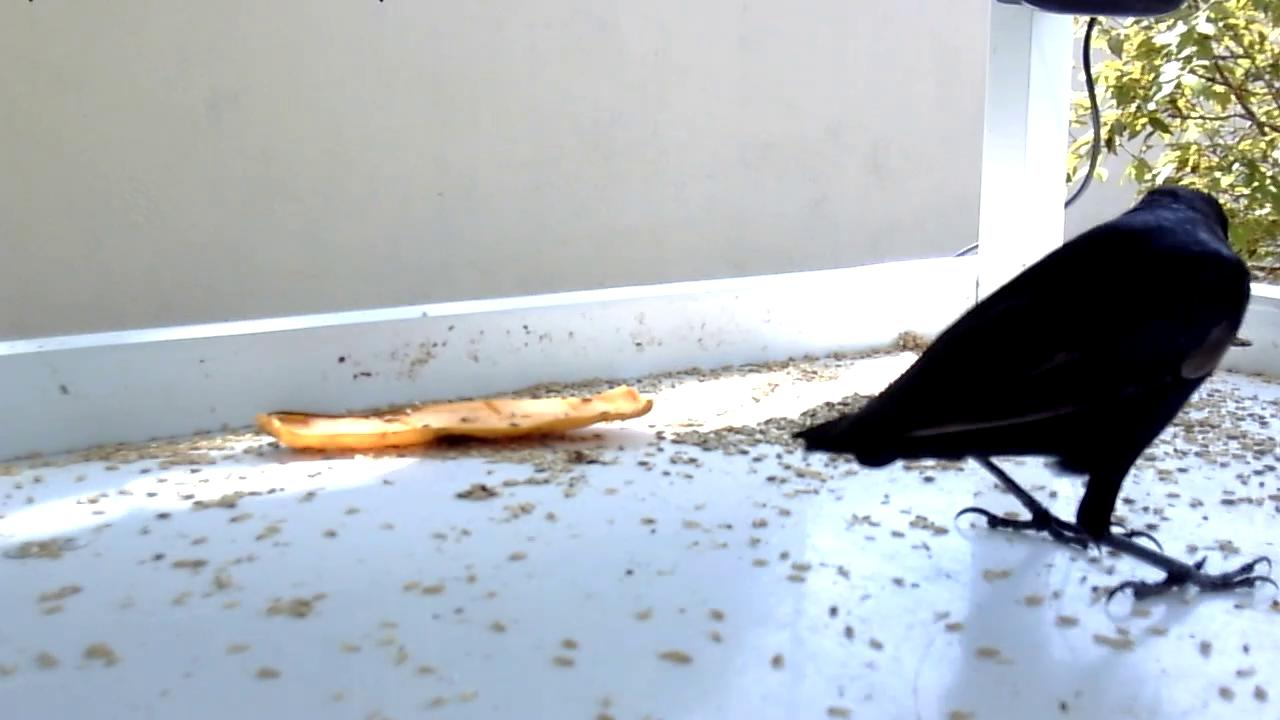chupim: (786, 181, 1280, 617)
